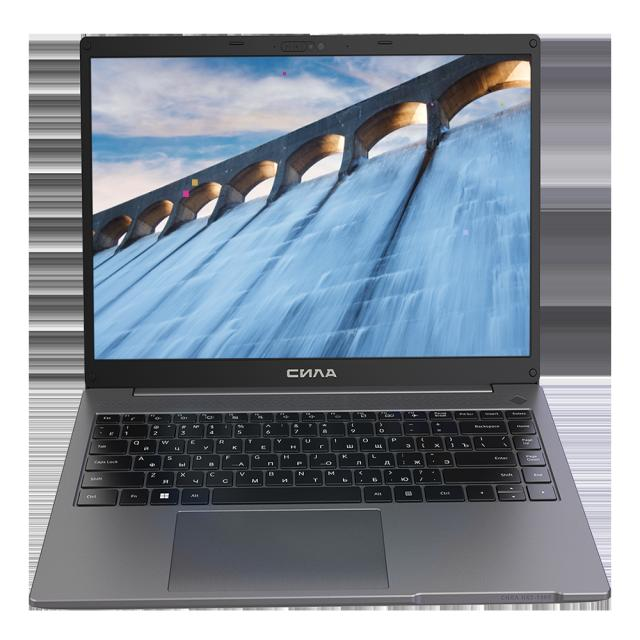dead_pixel: (192, 179, 197, 185), (183, 191, 188, 196), (463, 230, 467, 234), (283, 72, 285, 75), (431, 103, 433, 105), (501, 103, 502, 105)
